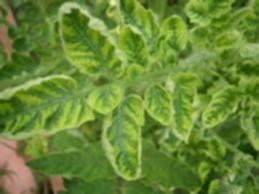Tomato leaf yellow virus: (0, 73, 79, 153), (50, 3, 125, 86), (101, 95, 152, 194), (161, 75, 198, 150), (204, 82, 240, 128), (114, 23, 149, 68), (157, 15, 189, 64), (191, 1, 234, 34), (144, 82, 173, 124), (206, 134, 225, 164)
